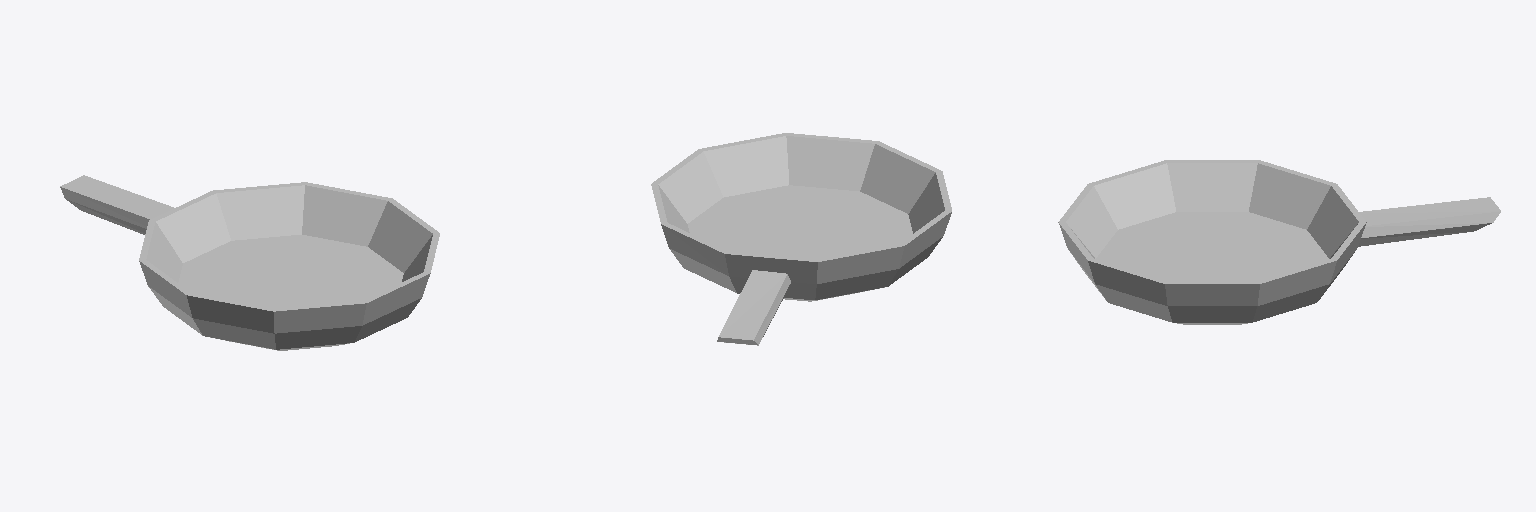
File: padella.obj
The picture shows the model from 3 angles: view 1: azimuth 30°, elevation 25°; view 2: azimuth 150°, elevation 25°; view 3: azimuth 270°, elevation 25°; orthographic projection.
Parts seen in each view (by area): view 1: obj0; view 2: obj0; view 3: obj0.
Boxes of the visible parts, x1=… form: obj0: x1=60, y1=175, x2=439, y2=350; obj0: x1=651, y1=133, x2=951, y2=345; obj0: x1=1058, y1=160, x2=1500, y2=324.
Bounding box in the file's own units: 2.27 × 0.5772 × 3.43.